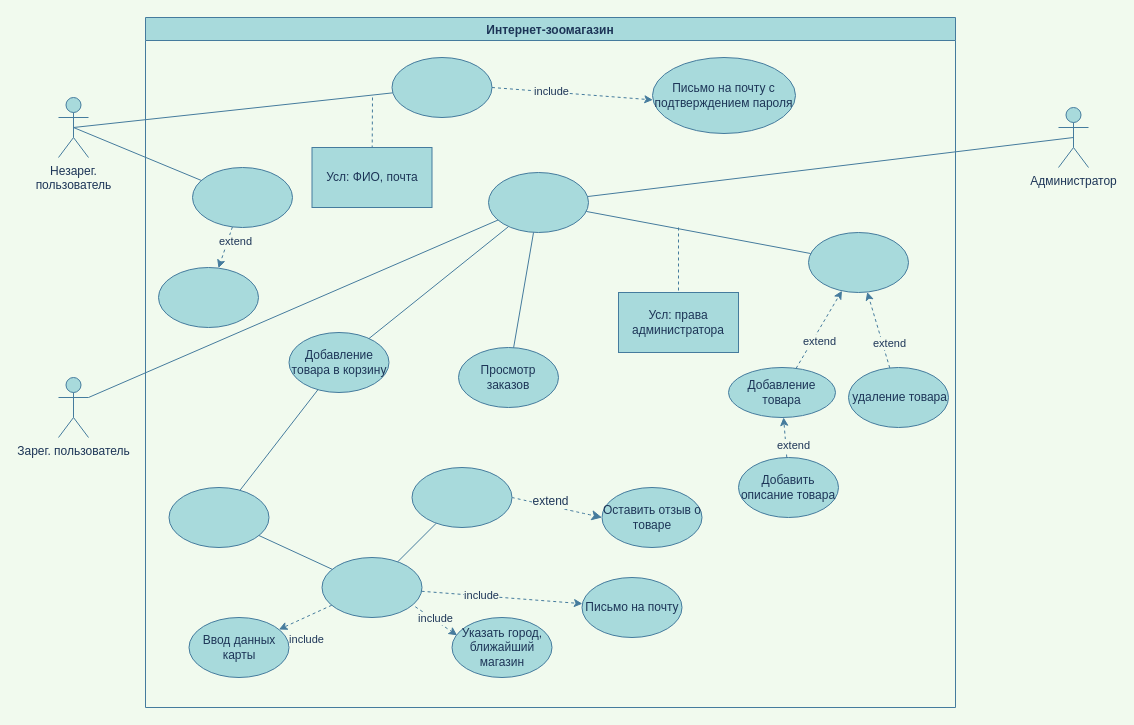
This 1134x725 diagram has some shape labels left out. The centre of each missing label's shape, as x and y in pixels:
Авторизация: point 538,202
Забрать заказ: point 461,497
Оплата услуг: point 371,587
Поиск товара по категориям: point 208,297
Просмотр корзины: point 218,517
Просмотр товаров: point 242,197
Регистрация: point 441,87
Редактирование сайта: point 858,262
